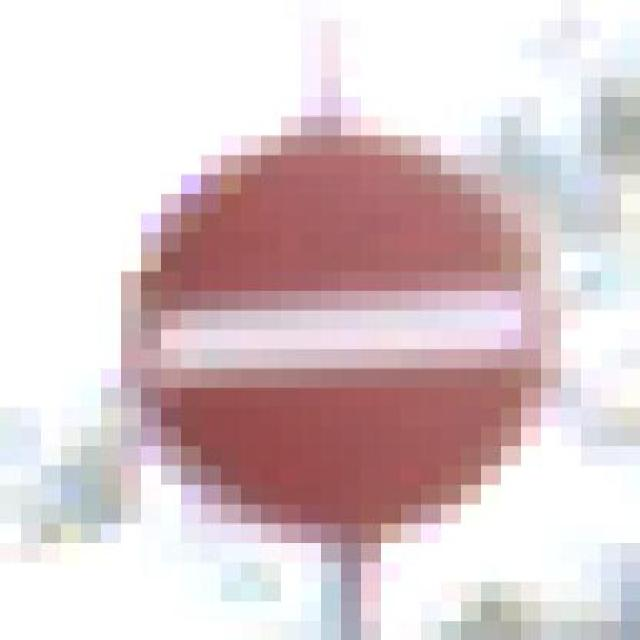No Entry: (60, 97, 600, 543)
